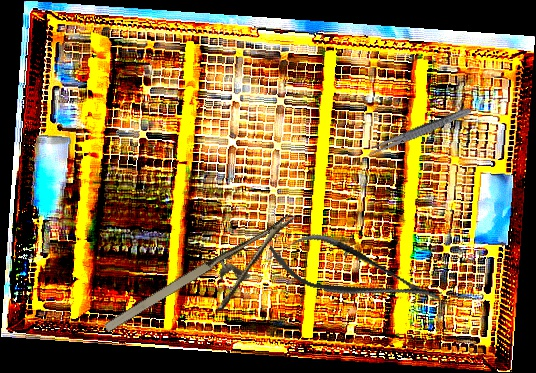Dressing Forceps: (364, 103, 475, 160)
Micro Scissor: (261, 220, 449, 326)
Needle Holder: (100, 211, 319, 364)
